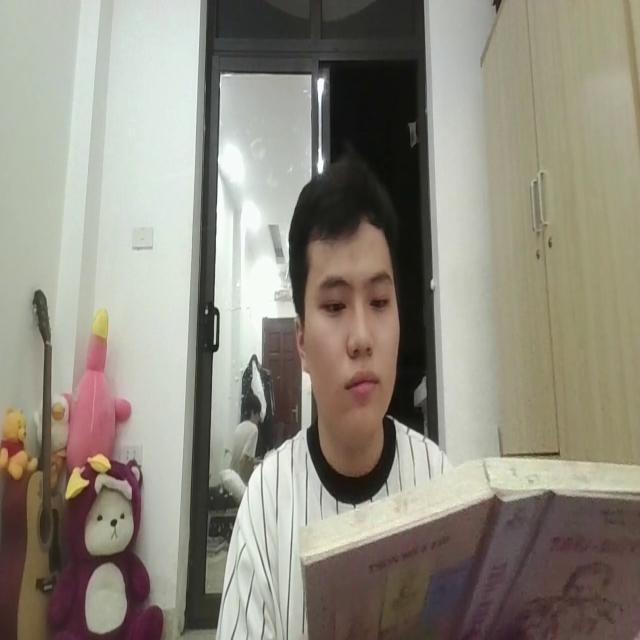book: (294, 452, 640, 640)
student: (234, 147, 456, 488)
